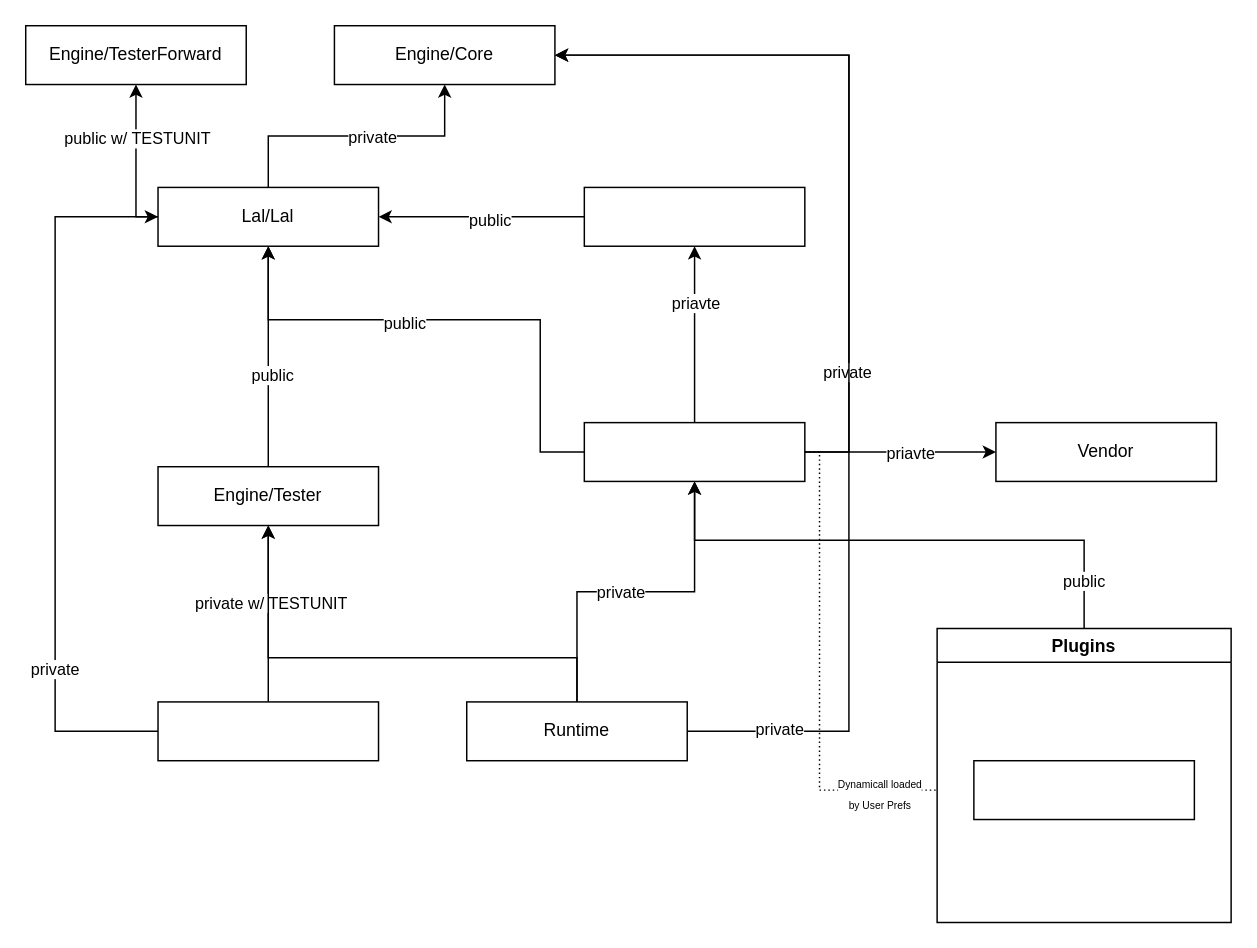
This 1257x948 diagram has some shape labels left out. Each missing label, with the centre of its shape:
Engine/Engine: the point at 694,451
Engine/EngineForward: the point at 694,216
Lal/LalTestRuntime: the point at 268,730
Plugins/JafgPlugin: the point at 1083,789
